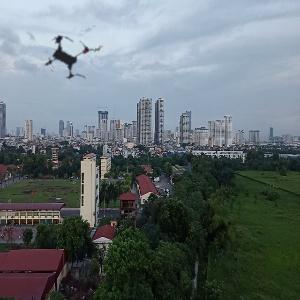drone: (14, 7, 122, 115)
